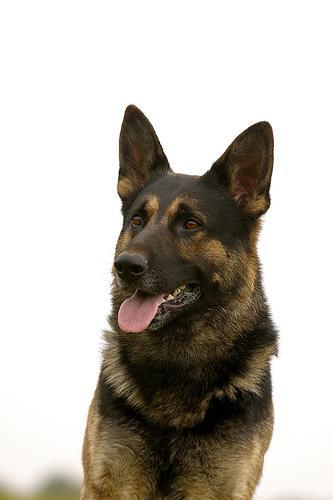German_shepherd: (83, 105, 279, 498)
